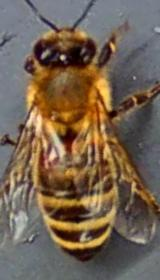varroa_mite: (29, 130, 60, 174)
